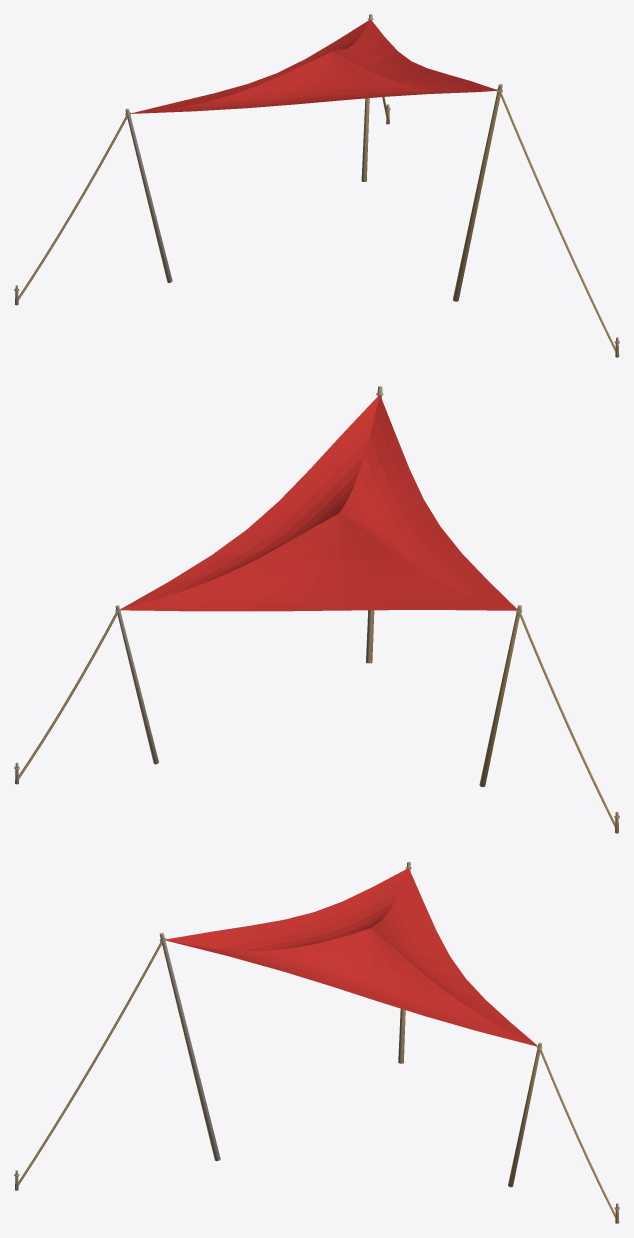
The model's file is nomad_sail_tri.fbx.
3 views of the same model, one above another, from view 1: azimuth 30°, elevation 25°; view 2: azimuth 150°, elevation 25°; view 3: azimuth 270°, elevation 25° (orthographic). The views are drawn at different scales.
Parts seen in each view (by area): view 1: S03_Canopy, S03_Mast_SailRig_MastPole, S03_Mast2_SailRig_MastPole, S03_Guy, S03_Guy2, S03_Mast1_SailRig_MastPole; view 2: S03_Canopy, S03_Mast2_SailRig_MastPole, S03_Mast1_SailRig_MastPole, S03_Guy2, S03_Guy1; view 3: S03_Canopy, S03_Mast_SailRig_MastPole, S03_Guy, S03_Mast1_SailRig_MastPole, S03_Guy1.
Boxes of the visible parts, x1,y1,x2,y2 form: S03_Canopy: [131, 20, 496, 113]; S03_Mast_SailRig_MastPole: [452, 84, 502, 301]; S03_Mast2_SailRig_MastPole: [125, 108, 172, 282]; S03_Guy: [499, 92, 615, 351]; S03_Guy2: [18, 115, 127, 300]; S03_Mast1_SailRig_MastPole: [361, 14, 373, 181]; S03_Canopy: [121, 395, 516, 611]; S03_Mast2_SailRig_MastPole: [479, 605, 522, 787]; S03_Mast1_SailRig_MastPole: [115, 605, 158, 764]; S03_Guy2: [519, 613, 615, 827]; S03_Guy1: [18, 612, 117, 779]; S03_Canopy: [166, 868, 537, 1046]; S03_Mast_SailRig_MastPole: [159, 933, 220, 1161]; S03_Guy: [18, 942, 162, 1185]; S03_Mast1_SailRig_MastPole: [508, 1042, 542, 1187]; S03_Guy1: [539, 1049, 615, 1217].
Bounding box in the file's own units: 721 × 341 × 796.
